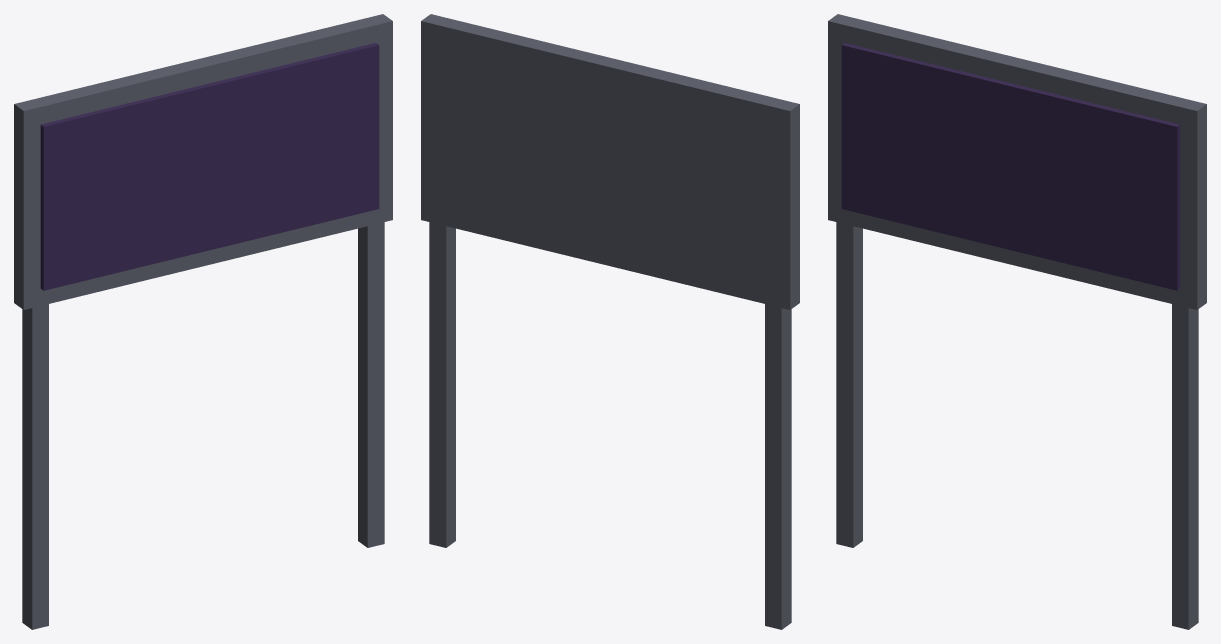
File: c_holo.glb
The picture shows the model from 3 angles, left to right: view 1: azimuth 30°, elevation 25°; view 2: azimuth 150°, elevation 25°; view 3: azimuth 330°, elevation 25°; orthographic projection.
Visible parts, largest first — view 1: leuchten, koerper; view 2: koerper; view 3: leuchten, koerper.
Part boxes in pixels (x1,y1,x2,y2): leuchten: [40, 43, 379, 290]; koerper: [14, 14, 392, 629]; koerper: [421, 14, 799, 629]; leuchten: [841, 43, 1180, 290]; koerper: [828, 14, 1206, 629].
Bounding box in the file's own units: 6.6 × 8.9 × 0.4.
